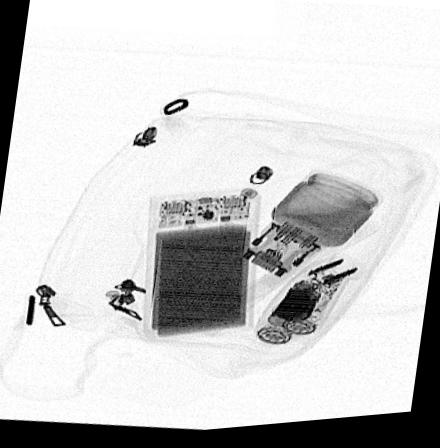Powerbank: (139, 192, 260, 342)
